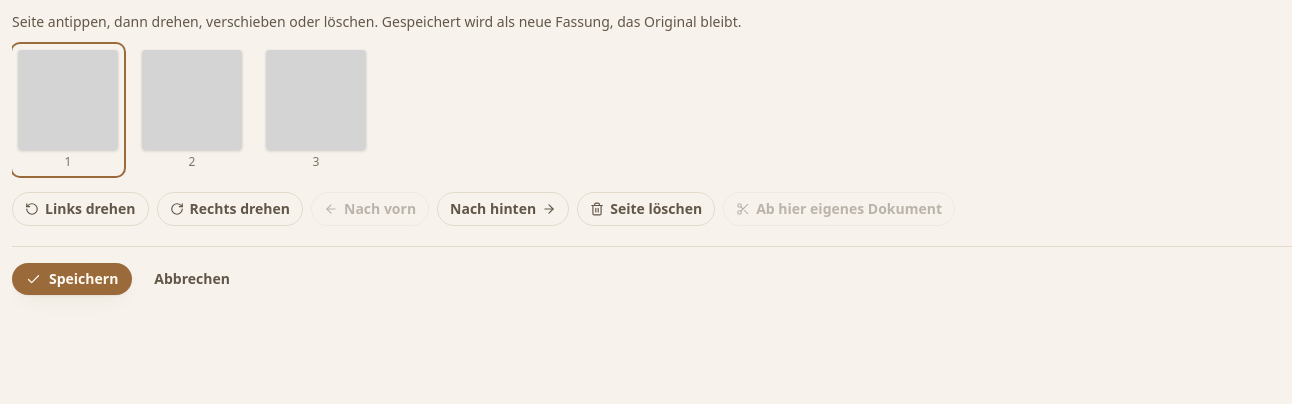
the page editor › says so when the document changed in the meantime, and keeps what was done
What coordinates should you click on to do the following:
click the button "Seite löschen"
I would click on:
 (646, 209)
Its box is [577,192,715,226].
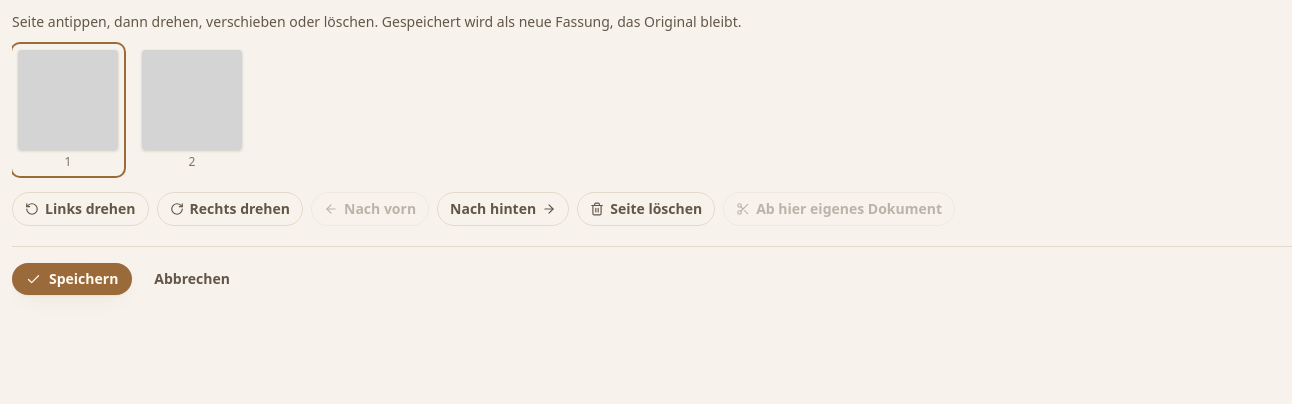
What coordinates should you click on to do the following:
click the button "Speichern"
I would click on:
 (72, 279)
Its box is [12,263,132,295].
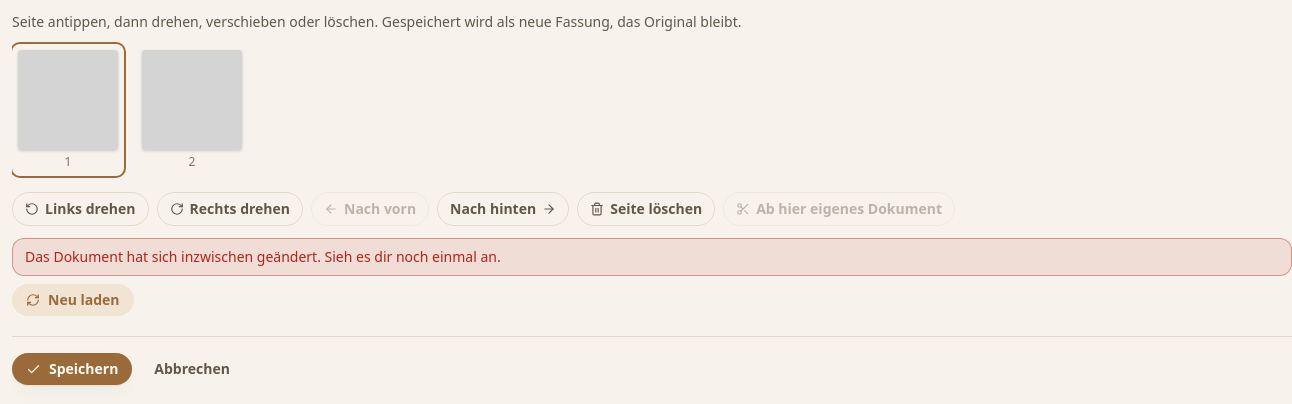
Expected: the text "Das Dokument hat sich inzwischen geändert. Sieh es dir noch einmal an." is shown, [12,238,1291,276]
